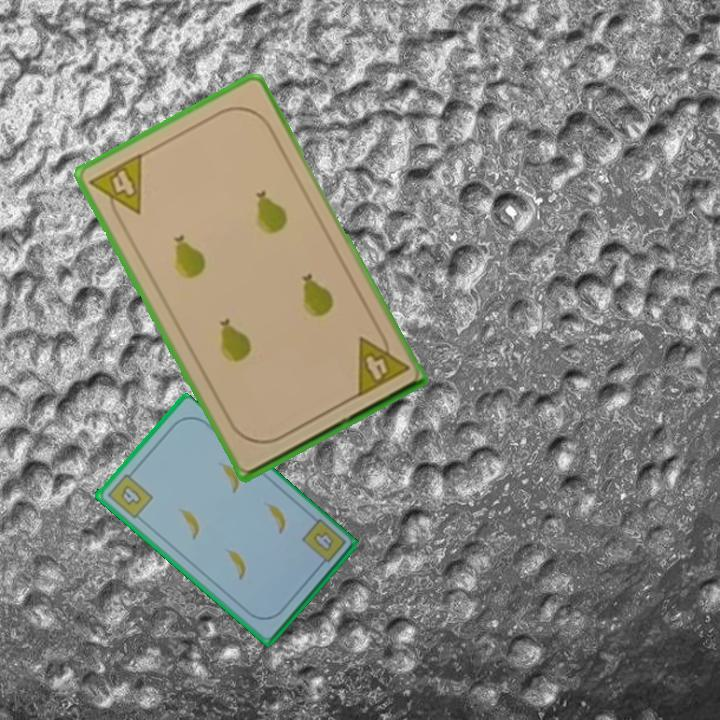4b: (298, 515, 349, 572), (103, 467, 155, 521)
4p: (86, 149, 146, 227), (352, 325, 412, 400)
